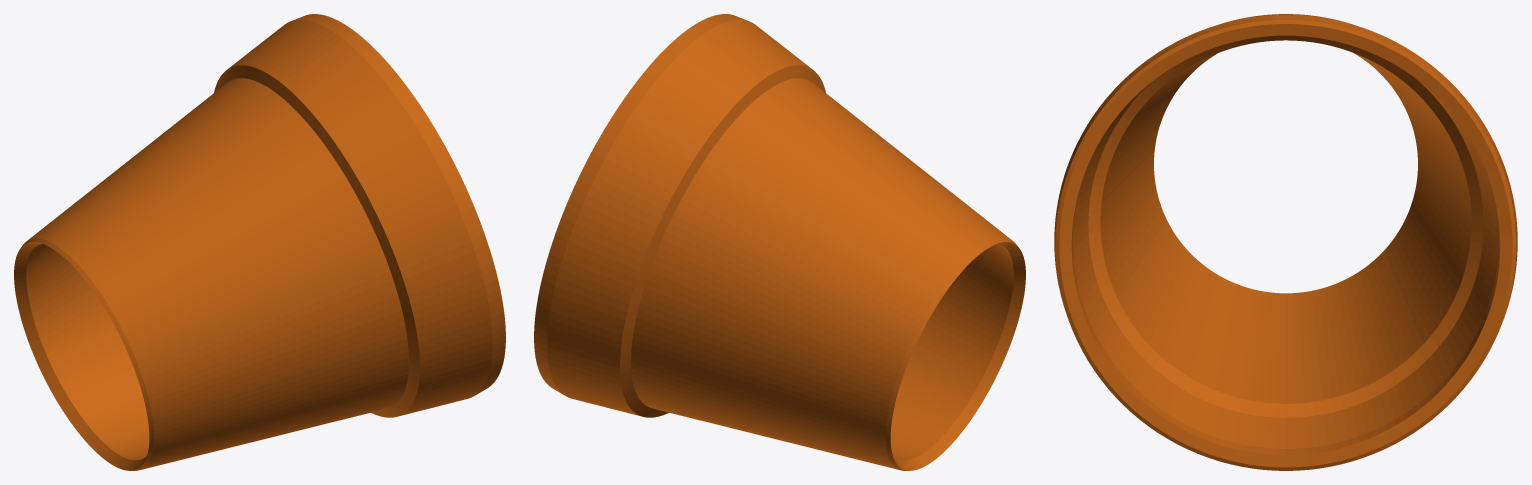
Rendered from Pot.obj.
3 renders of one model, left to right at view 1: azimuth 30°, elevation 25°; view 2: azimuth 150°, elevation 25°; view 3: azimuth 270°, elevation 25°, orthographic. The views are drawn at different scales.
Parts seen in each view (by area): view 1: Cylinder_Cylinder.001; view 2: Cylinder_Cylinder.001; view 3: Cylinder_Cylinder.001.
Boxes of the visible parts, box(x1,y1,x2,y2) form: Cylinder_Cylinder.001: box(14, 14, 505, 470); Cylinder_Cylinder.001: box(534, 14, 1025, 470); Cylinder_Cylinder.001: box(1054, 14, 1517, 470).
Bounding box in the file's own units: 4.37 × 4.11 × 4.17.
Materials: 1 (1 with a texture image).
